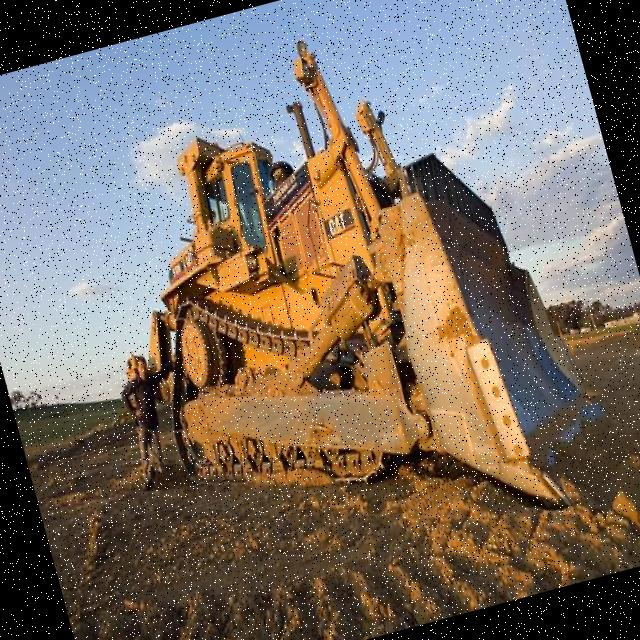Bulldozer: (47, 0, 640, 630)
